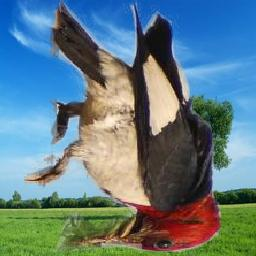Woodpecker: (25, 0, 222, 252)
